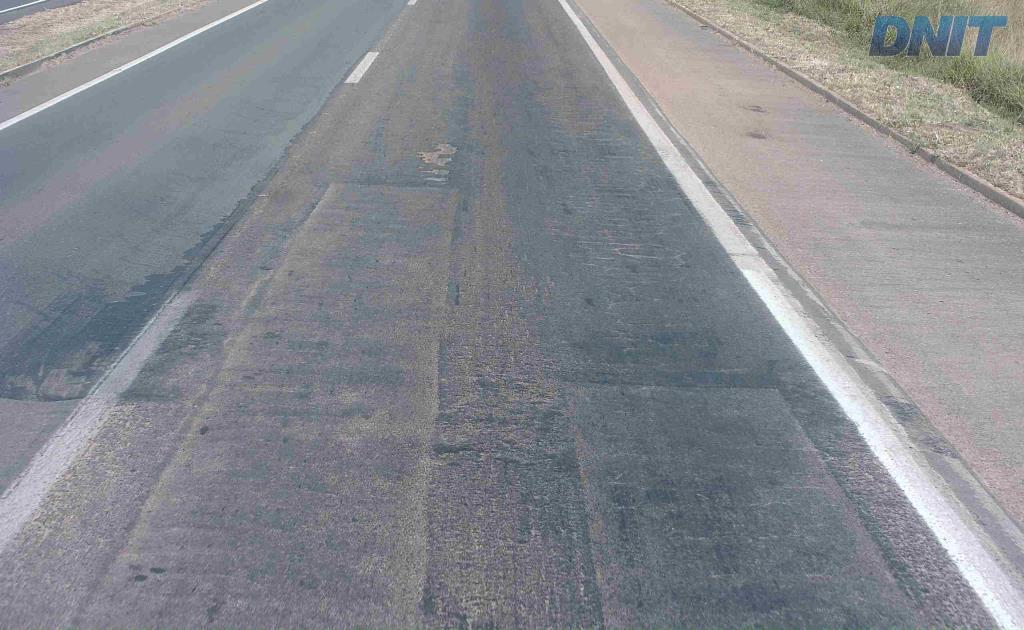pothole: (415, 141, 457, 164), (418, 168, 448, 180)
